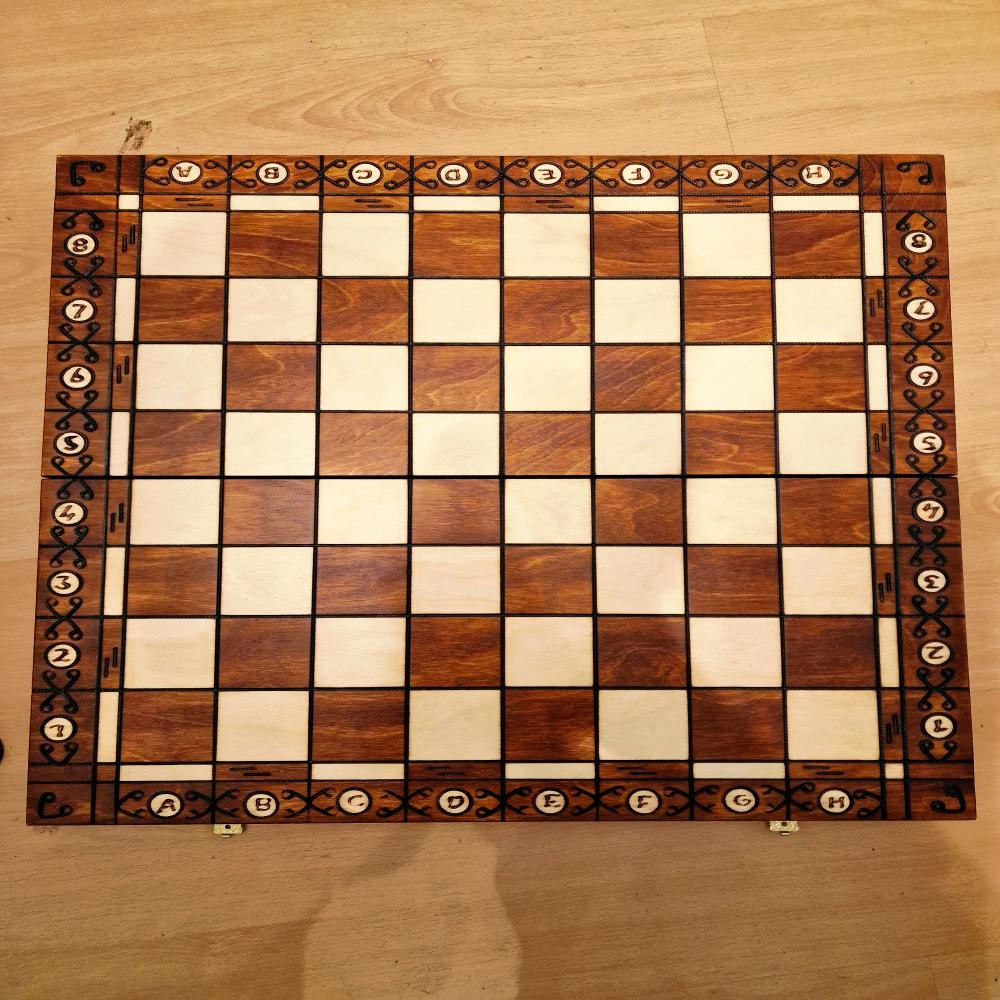chessboard-corners: (28, 155, 978, 823)
chessfield: (144, 210, 866, 759), (785, 686, 882, 760), (692, 688, 789, 761), (504, 687, 597, 762), (597, 688, 690, 761), (216, 616, 311, 687), (690, 616, 782, 688), (218, 690, 310, 762), (599, 616, 690, 688), (128, 616, 216, 690), (502, 618, 597, 686), (409, 616, 501, 686), (409, 691, 501, 761), (501, 476, 594, 545), (683, 347, 780, 413), (504, 545, 594, 616), (596, 545, 686, 616), (320, 544, 408, 616), (318, 616, 407, 687), (784, 544, 874, 614), (687, 476, 778, 545), (226, 342, 318, 410), (786, 616, 876, 684), (316, 688, 404, 757), (780, 478, 873, 543), (687, 549, 780, 614), (595, 477, 685, 544), (221, 549, 311, 616), (123, 694, 214, 760), (228, 277, 318, 343), (132, 549, 217, 618), (500, 215, 592, 278), (318, 413, 410, 476), (224, 481, 316, 544), (597, 344, 682, 412), (773, 280, 863, 344), (682, 279, 773, 342), (413, 347, 504, 410), (687, 413, 778, 476), (415, 549, 503, 614), (321, 480, 407, 546), (319, 280, 409, 343), (138, 343, 221, 410), (413, 280, 501, 343), (321, 346, 409, 409), (133, 481, 221, 544), (414, 478, 499, 543), (683, 215, 773, 276), (780, 414, 868, 476), (140, 276, 225, 340), (593, 216, 682, 277), (776, 347, 864, 408), (597, 412, 682, 475), (228, 414, 314, 476), (325, 212, 409, 275), (506, 280, 590, 343), (504, 413, 592, 473), (233, 212, 318, 274), (596, 280, 678, 344), (414, 413, 497, 476), (508, 347, 590, 410), (415, 216, 501, 276), (135, 416, 221, 475), (142, 215, 226, 274), (773, 218, 861, 274)
innerChessboard: (118, 212, 882, 763)
